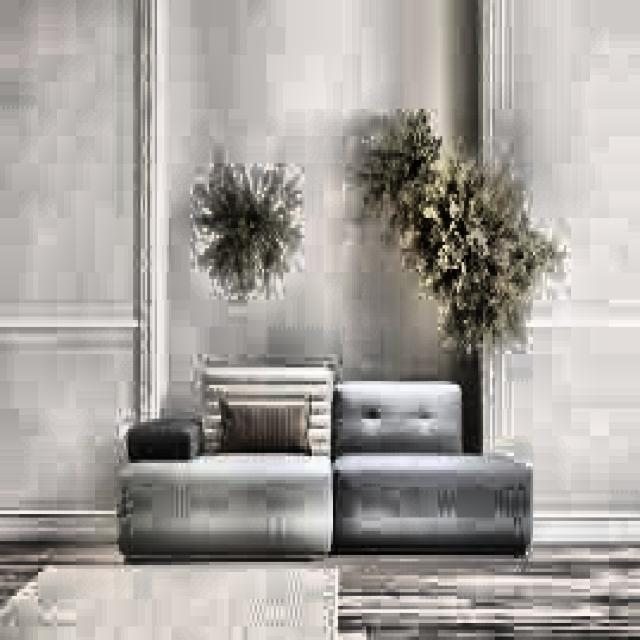sofa: (128, 368, 536, 575)
